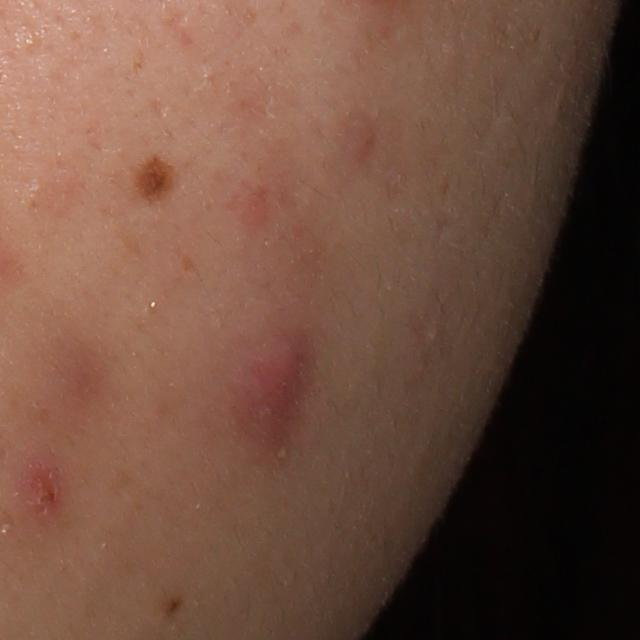nevus: (132, 152, 182, 199), (163, 593, 185, 615)
nodule: (237, 344, 299, 436)
papule: (1, 458, 80, 528)
